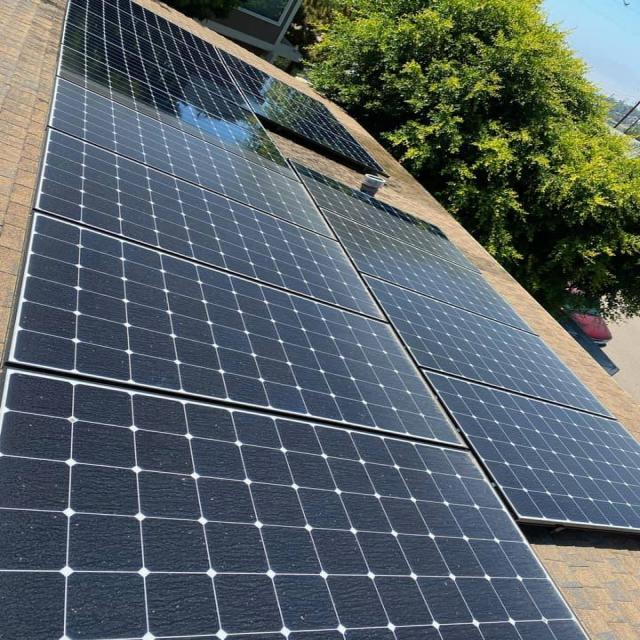dust-solar-panel: (0, 82, 640, 640)
